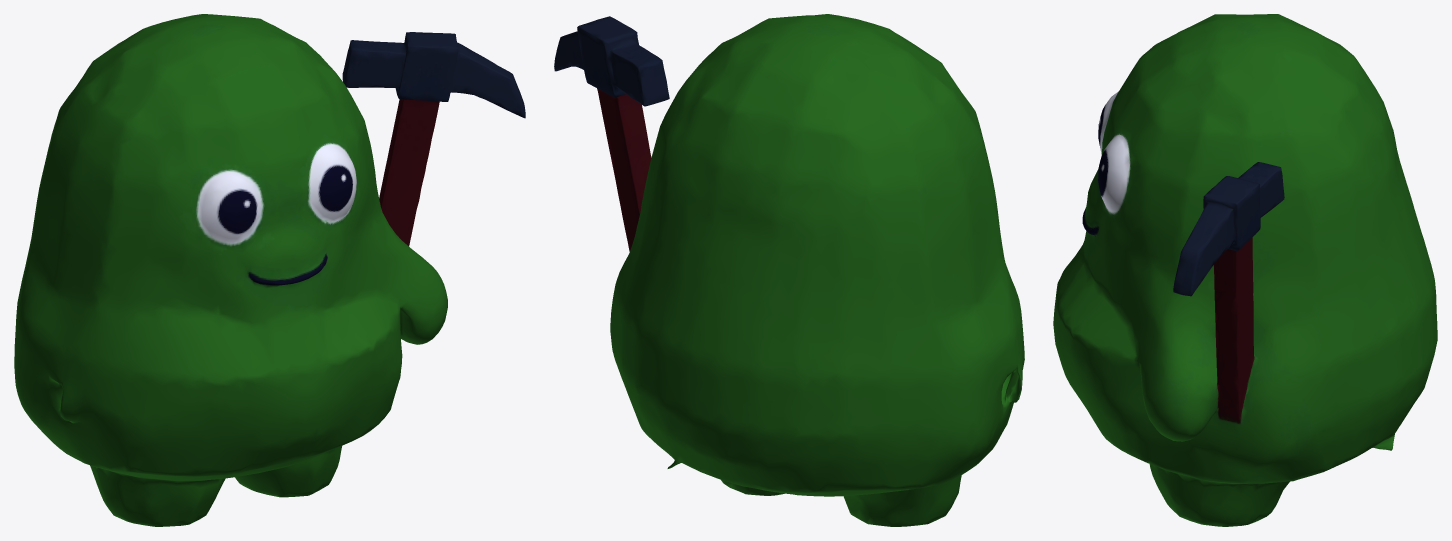
The model's file is worker-slime.glb.
3 views of the same model, side by side, from view 1: azimuth 30°, elevation 25°; view 2: azimuth 150°, elevation 25°; view 3: azimuth 270°, elevation 25° (orthographic). The views are drawn at different scales.
Visible parts, largest first — view 1: world; view 2: world; view 3: world.
Part boxes in pixels (box(x1,y1,x2,y2)): world: box(14, 14, 525, 526); world: box(554, 14, 1024, 526); world: box(1053, 14, 1437, 526).
Size of the model in its own units: 1 by 0.947 by 0.7375.
Materials: 1 (1 with a texture image).
